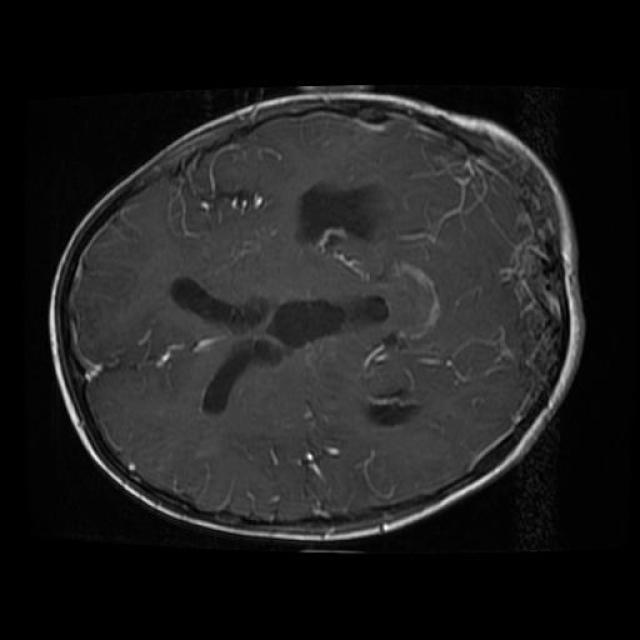Glioma: (293, 181, 417, 281)
